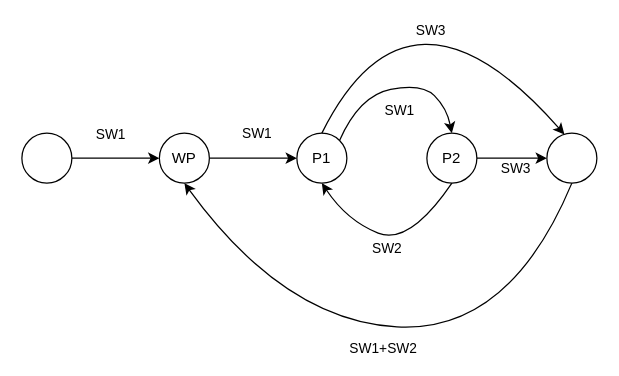
This 619x376 diagram has some shape labels left out. Each missing label, with the box of its shape:
GP: (546, 132, 597, 183)
Idle: (21, 132, 72, 183)
